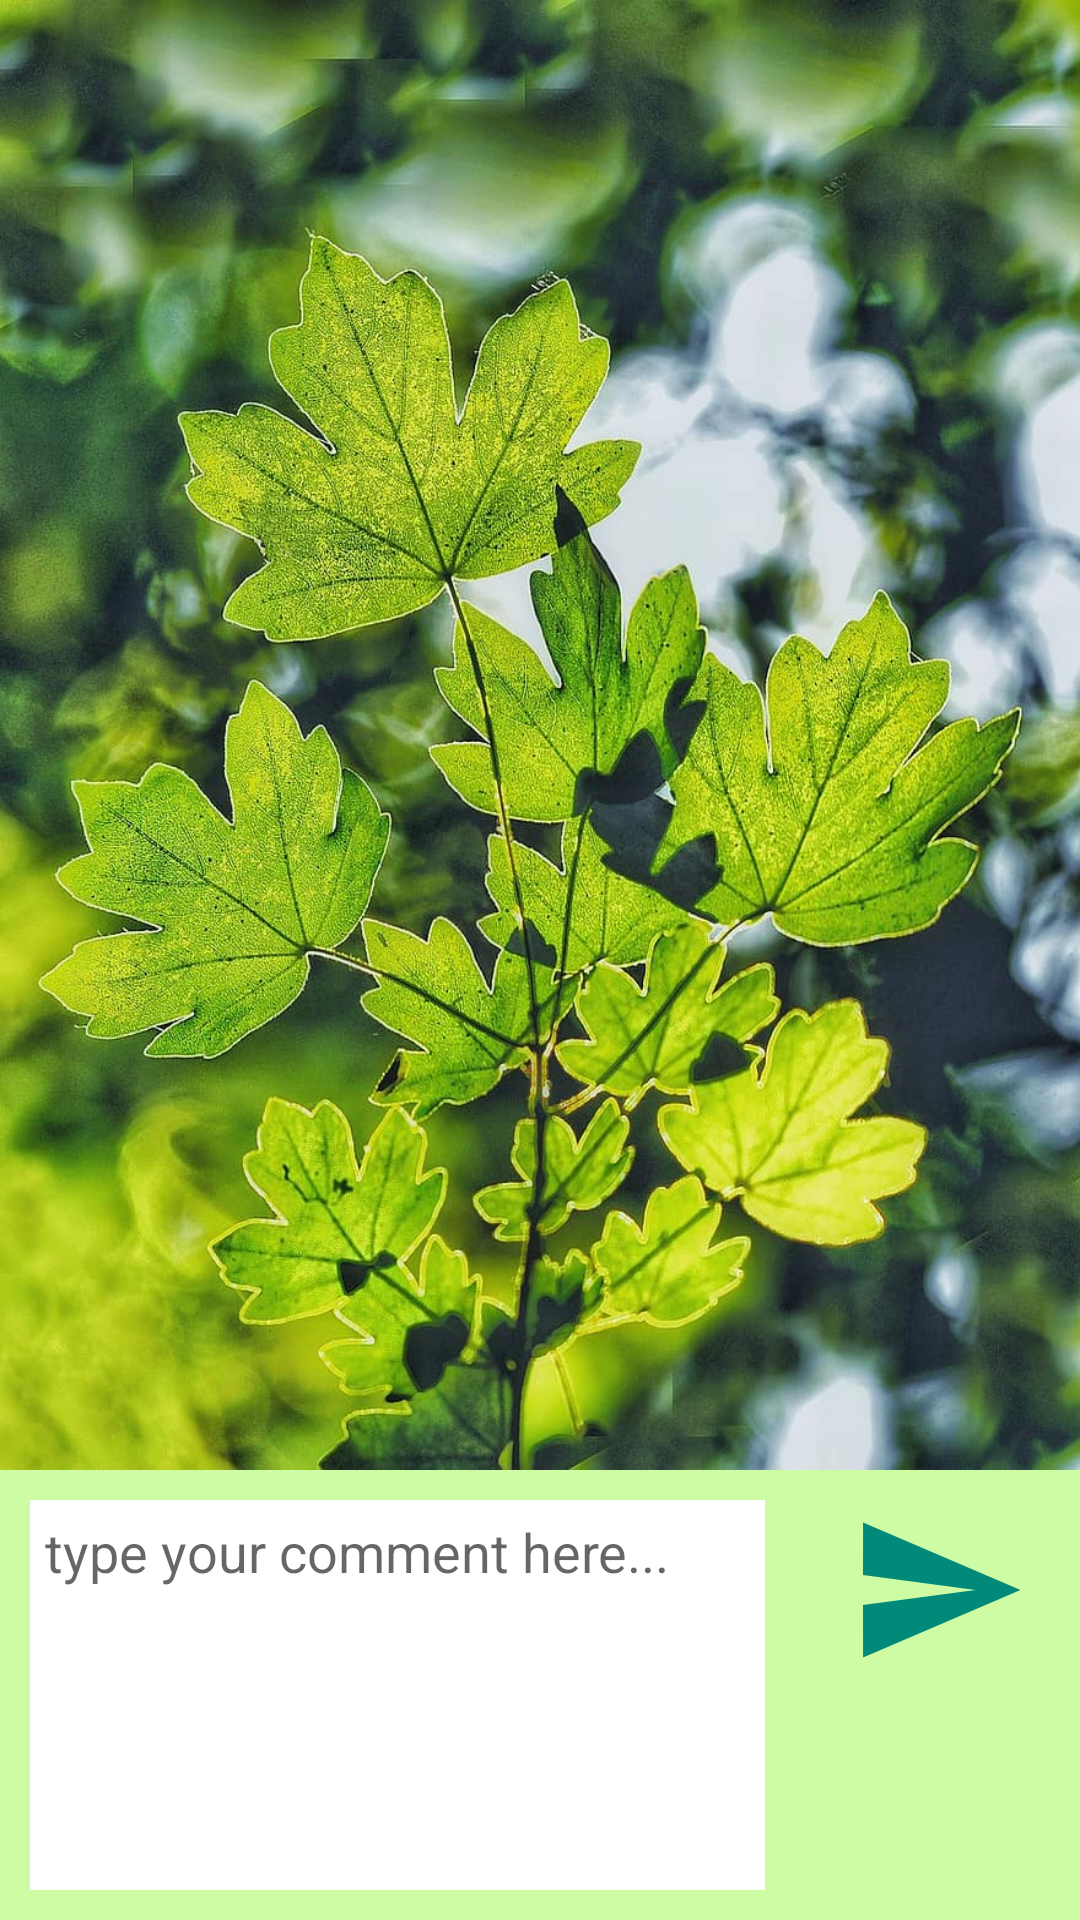

Icons on this 1080 × 1920 Android screen, each with its box as (x1, y1, x2, y2):
sendbutton: (863, 1522, 1020, 1658)
